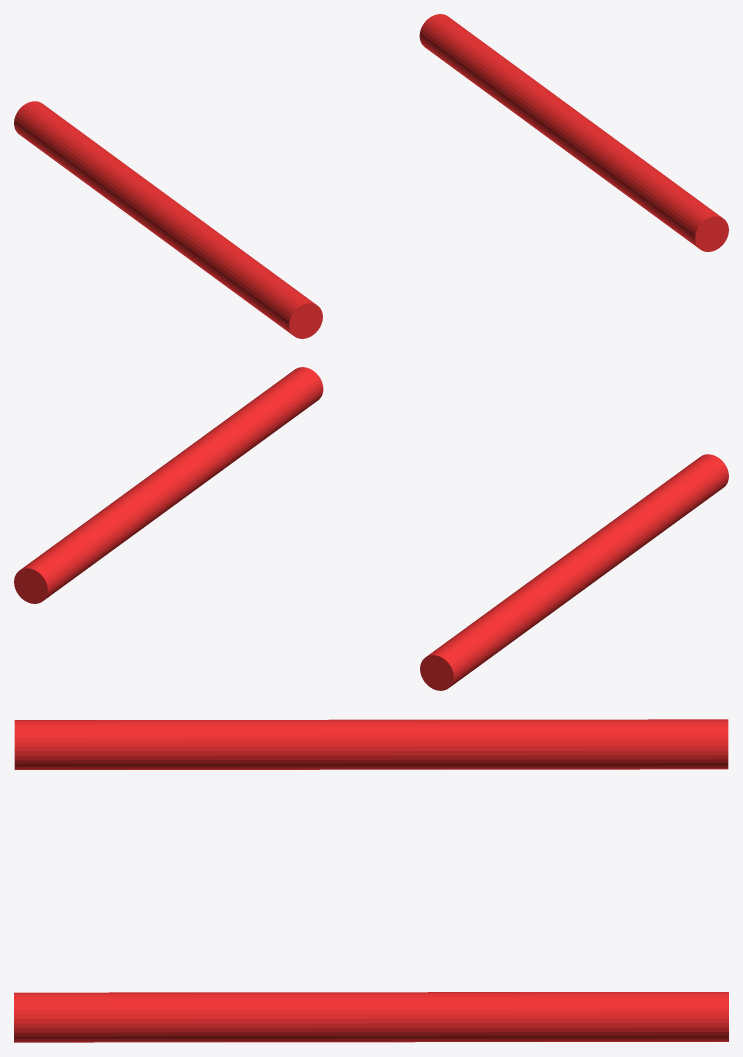
File: laser.obj
The picture shows the model from 3 angles, top to bottom: view 1: azimuth 30°, elevation 25°; view 2: azimuth 150°, elevation 25°; view 3: azimuth 270°, elevation 25°; orthographic projection. The views are drawn at different scales.
Parts seen in each view (by area): view 1: Cylinder.001, Cylinder.002; view 2: Cylinder.001, Cylinder.002; view 3: Cylinder.001, Cylinder.002.
Part boxes in pixels (box(x1,y1,x2,y2)): Cylinder.001: box(419, 14, 728, 251); Cylinder.002: box(14, 101, 322, 338); Cylinder.001: box(14, 367, 323, 603); Cylinder.002: box(420, 454, 728, 690); Cylinder.001: box(14, 992, 728, 1042); Cylinder.002: box(14, 719, 728, 769).
Size of the model in its own units: 0.1882 by 0.0194 by 0.2043.
2 materials, 2 textured.
